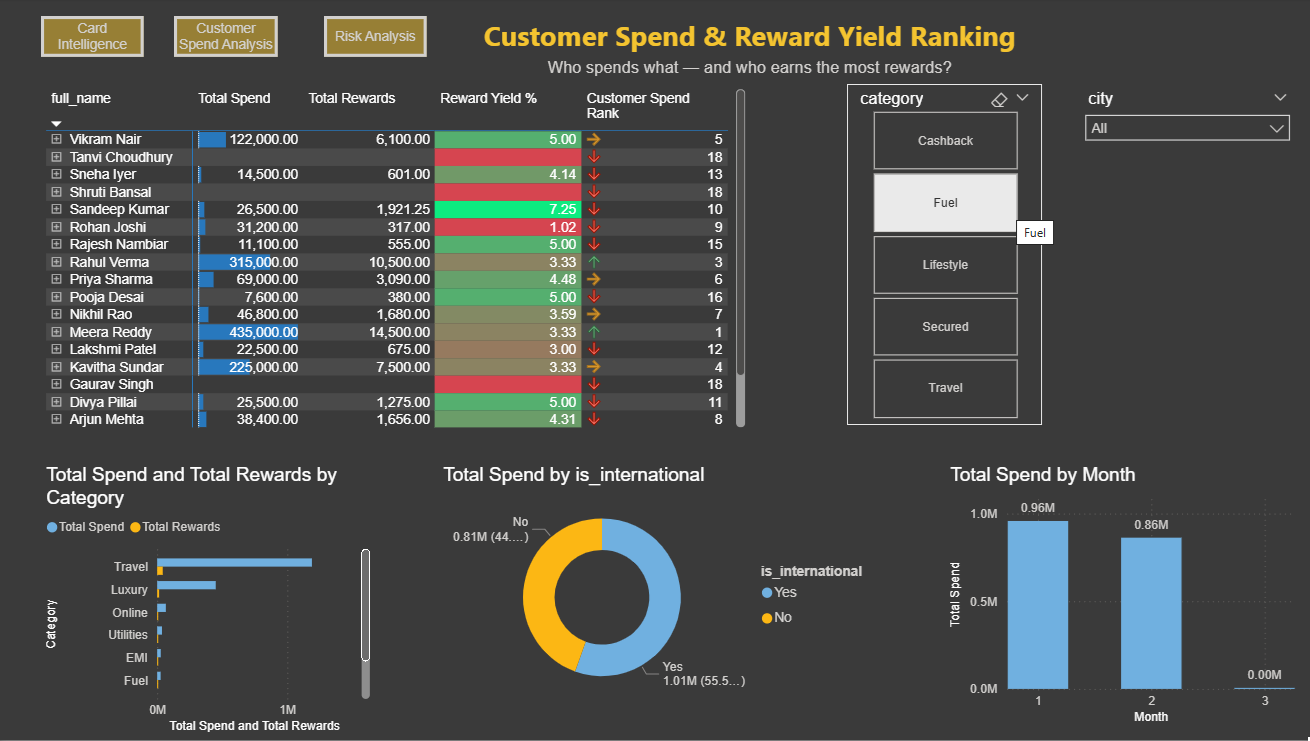

What the dashboard file says about the page in this screenshot:
{"tool":"powerbi","page":{"name":"Spend & Reward Analysis","canvas":[1280,720],"ordinal":1},"visuals":[{"type":"pivotTable","fields":{"Rows":["customers.full_name","credit_cards.card_name"],"Values":["_Measures.Total Spend","_Measures.Total Rewards","_Measures.Reward Yield %","_Measures.Customer Spend Rank"]},"box":[39.9,83.6,689.6,339.5],"z":0},{"type":"clusteredBarChart","fields":{"Category":["transactions.category"],"Y":["_Measures.Total Spend","_Measures.Total Rewards"]},"box":[39.9,453.3,324.9,266.5],"z":1000},{"type":"donutChart","fields":{"Category":["transactions.is_international"],"Y":["_Measures.Total Spend"]},"box":[426,453.3,430.9,238.3],"z":2000},{"type":"clusteredColumnChart","fields":{"Category":["transactions.Month"],"Y":["_Measures.Total Spend"]},"box":[919.1,453.3,345.3,257.8],"z":3000},{"type":"slicer","fields":{"Values":["credit_cards.category"]},"box":[823.8,83.6,189.7,331.7],"z":4000},{"type":"slicer","fields":{"Values":["customers.city"]},"box":[1045.6,83.6,218.8,291.8],"z":5000},{"type":"textbox","title":"Customer Spend & Reward Yield Ranking","box":[436.2,17.3,587,64.2],"z":5001},{"type":"actionButton","box":[39.7,17.3,99.9,39.7],"z":5002},{"type":"actionButton","box":[169.2,17.3,100.9,39.7],"z":5003},{"type":"actionButton","box":[314.9,17.3,99.9,39.7],"z":5004}]}

Visuals, with their boxes in screenshot pixels (x1, y1, x2, y2), scaled from the page's 1280x720 canvas onto the 1310x741 screenshot:
pivotTable - customers.full_name x credit_cards.card_name: [x1=41, y1=86, x2=747, y2=435]
clusteredBarChart - transactions.category x _Measures.Total Spend: [x1=41, y1=467, x2=373, y2=740]
donutChart - transactions.is_international x _Measures.Total Spend: [x1=436, y1=467, x2=877, y2=712]
clusteredColumnChart - transactions.Month x _Measures.Total Spend: [x1=941, y1=467, x2=1294, y2=732]
slicer - credit_cards.category: [x1=843, y1=86, x2=1037, y2=427]
slicer - customers.city: [x1=1070, y1=86, x2=1294, y2=386]
"Customer Spend & Reward Yield Ranking" textbox: [x1=446, y1=18, x2=1047, y2=84]
actionButton: [x1=41, y1=18, x2=143, y2=59]
actionButton: [x1=173, y1=18, x2=276, y2=59]
actionButton: [x1=322, y1=18, x2=425, y2=59]
